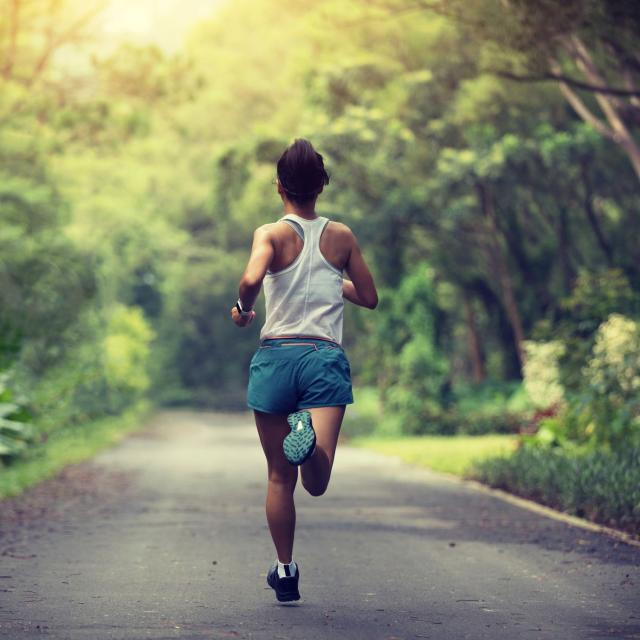Person: (231, 141, 378, 601)
